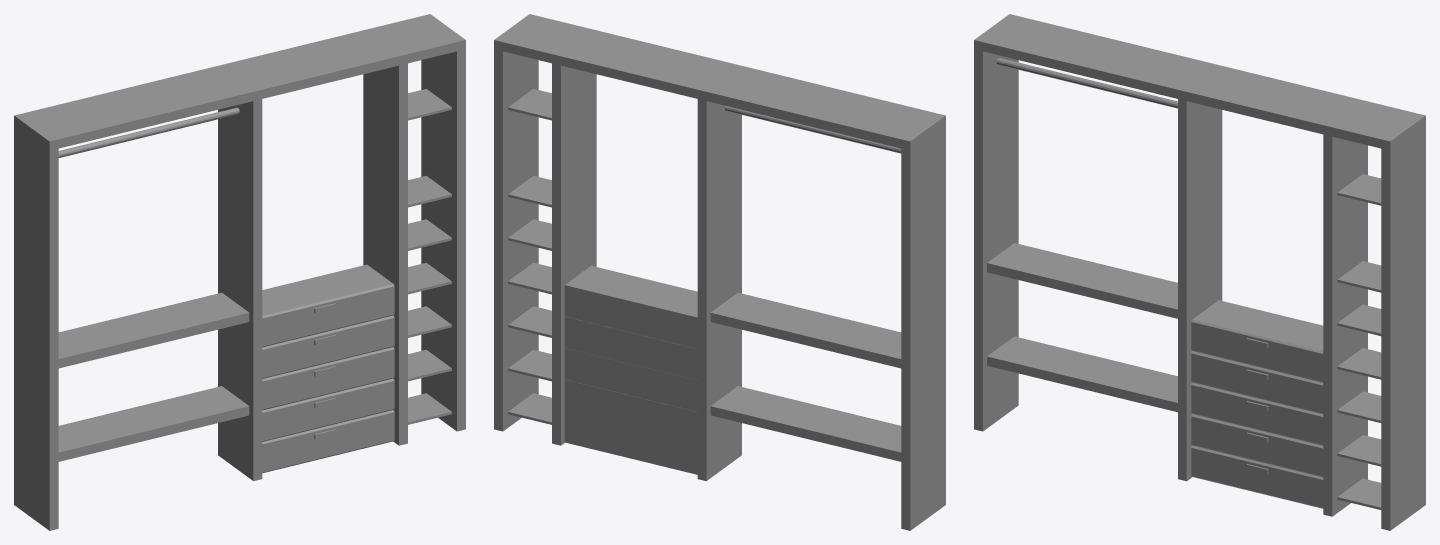
Rendered from HouseArmario1.fbx.
3 views of the same model, side by side, from view 1: azimuth 30°, elevation 25°; view 2: azimuth 150°, elevation 25°; view 3: azimuth 330°, elevation 25° (orthographic).
Visible parts, largest first — view 1: HouseArmario1; view 2: HouseArmario1; view 3: HouseArmario1.
Part boxes in pixels (x1=…): HouseArmario1: x1=14, y1=14, x2=465, y2=530; HouseArmario1: x1=494, y1=14, x2=945, y2=530; HouseArmario1: x1=974, y1=14, x2=1425, y2=530.
Bounding box in the file's own units: 501 × 448 × 74.05.
Materials: 1 (1 with a texture image).
